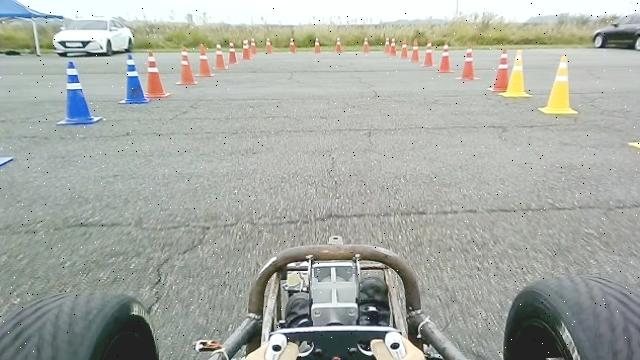blue cone: (56, 61, 102, 125), (117, 53, 149, 104)
red cone: (144, 51, 170, 98), (486, 48, 509, 92), (175, 45, 198, 85), (455, 47, 480, 80), (194, 43, 213, 77), (436, 43, 454, 73), (212, 43, 228, 70), (420, 41, 436, 67)
yellow cone: (537, 55, 578, 114), (497, 49, 532, 97)
